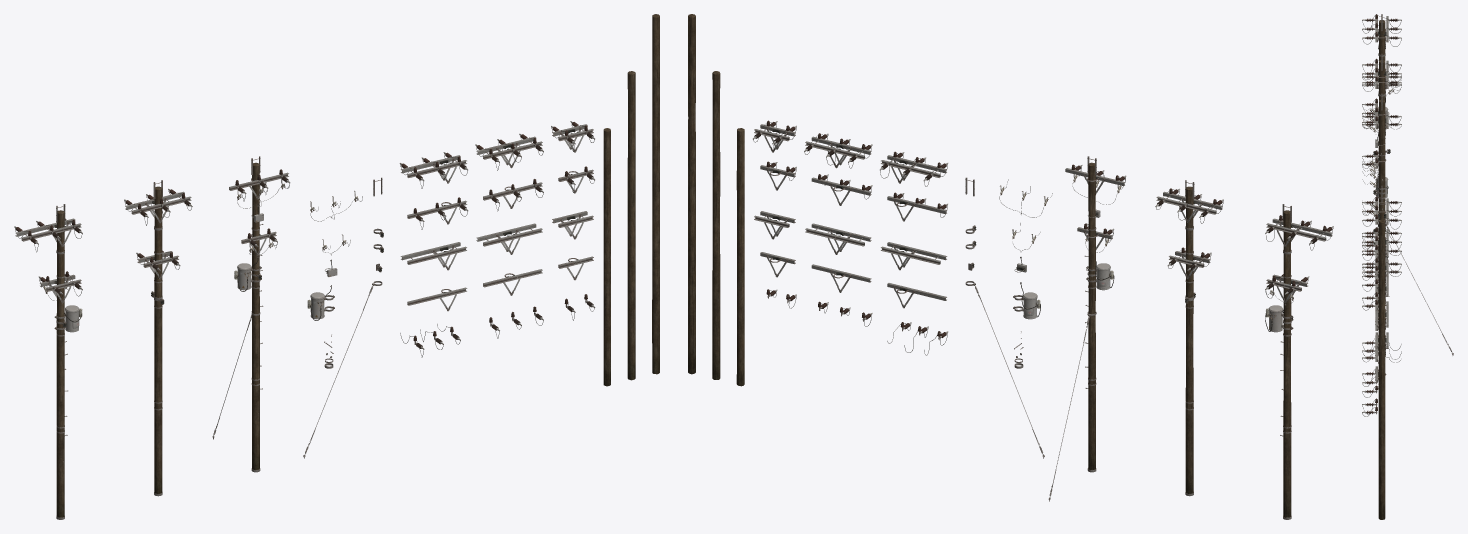
Rendered from modular_electricity_poles.glb.
3 renders of one model, left to right at view 1: azimuth 30°, elevation 25°; view 2: azimuth 150°, elevation 25°; view 3: azimuth 270°, elevation 25°, orthographic. The views are drawn at different scales.
Parts seen in each view (by area): view 1: pole_large, pole, preset_02_pole, preset_03_pole, preset_01_pole, pole_small, connection_large_01, connection_large_offset_01, preset_02_connection_large_01, preset_03_connection_large_offset_01, support_large_offset_01, support_large_01; view 2: pole_large, pole, preset_03_pole, preset_02_pole, preset_01_pole, pole_small, connection_large_01, connection_large_offset_01, preset_02_connection_large_01, preset_03_connection_large_offset_01, support_large_01, support_large_offset_01; view 3: pole_large, preset_01_pole, preset_03_connection_large_offset_01, connection_large_offset_01, preset_02_connection_large_01, connection_large_01, connection_small_01, preset_03_pole, preset_02_pole, preset_02_connection_small_01, preset_01_connection_large_02, preset_03_connection_small_01_02 (+11 smaller).
Part boxes in pixels (x1,y1,x2,y2): pole_large: (652, 14, 659, 374); pole: (627, 71, 635, 380); preset_02_pole: (154, 186, 162, 493); preset_03_pole: (56, 210, 64, 517); preset_01_pole: (252, 162, 259, 469); pole_small: (603, 128, 610, 386); connection_large_01: (475, 133, 543, 170); connection_large_offset_01: (399, 152, 467, 188); preset_02_connection_large_01: (124, 188, 192, 225); preset_03_connection_large_offset_01: (14, 218, 82, 252); support_large_offset_01: (400, 242, 466, 270); support_large_01: (476, 223, 542, 254); pole_large: (688, 14, 695, 374); pole: (712, 71, 720, 379); preset_03_pole: (1283, 210, 1291, 517); preset_02_pole: (1185, 186, 1193, 493); preset_01_pole: (1088, 162, 1095, 469); pole_small: (736, 128, 744, 386); connection_large_01: (804, 133, 872, 168); connection_large_offset_01: (880, 151, 948, 186); preset_02_connection_large_01: (1155, 188, 1223, 223); preset_03_connection_large_offset_01: (1265, 215, 1333, 250); support_large_01: (805, 223, 871, 254); support_large_offset_01: (881, 242, 947, 270); pole_large: (1378, 219, 1385, 519); preset_01_pole: (1378, 99, 1385, 219); preset_03_connection_large_offset_01: (1362, 14, 1401, 49); connection_large_offset_01: (1362, 196, 1401, 231); preset_02_connection_large_01: (1362, 58, 1401, 88); connection_large_01: (1362, 227, 1401, 257); connection_small_01: (1362, 258, 1401, 282); preset_03_pole: (1378, 20, 1385, 168); preset_02_pole: (1378, 60, 1385, 208); preset_02_connection_small_01: (1362, 112, 1401, 135); preset_01_connection_large_02: (1362, 98, 1386, 128); preset_03_connection_small_01_02: (1362, 74, 1401, 96).
Bounding box in the file's own units: 13.12 × 7 × 1.96.
Materials: 2 (2 with a texture image).
